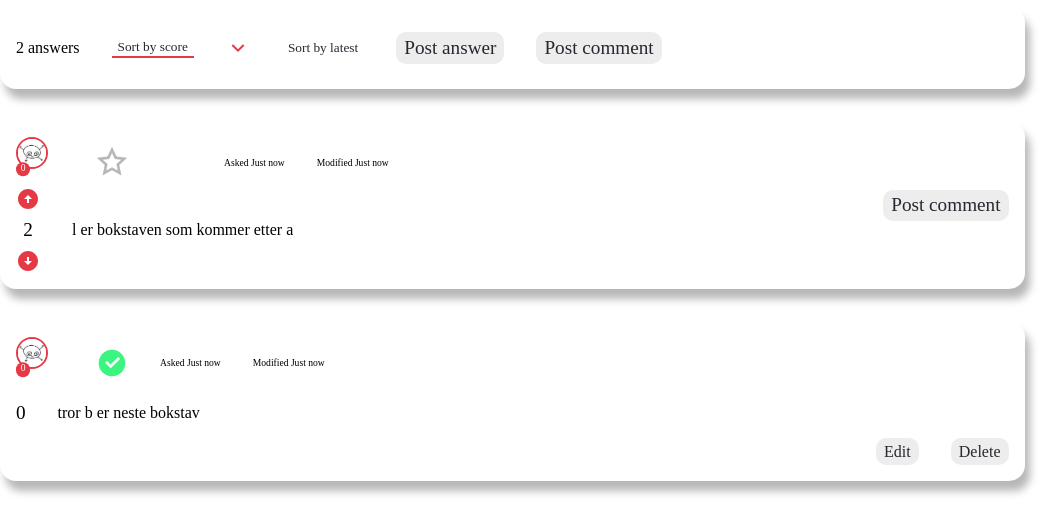
Answer components tests › Downvoting answer decrements score
The width and height of the screenshot is (1051, 512).
Check: the text "l er bokstaven som kommer etter a" is shown, box [72,221,293,239]
Click the picture with alt text "downvote": (28,261) [16,249,40,273]
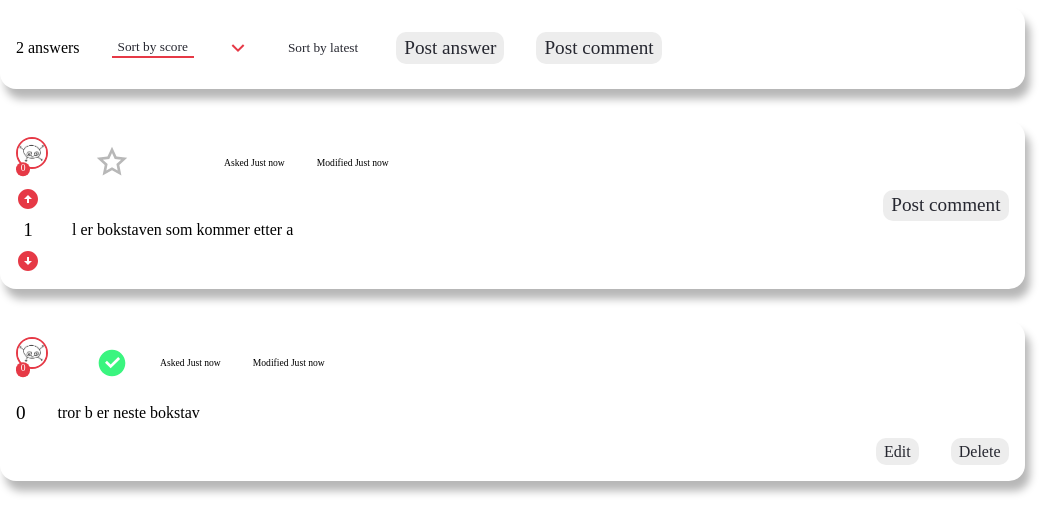
Check: the text "1" is shown, box [23,219,33,241]
